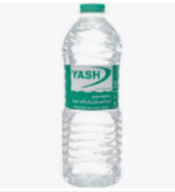Bottle: (65, 3, 121, 186)
